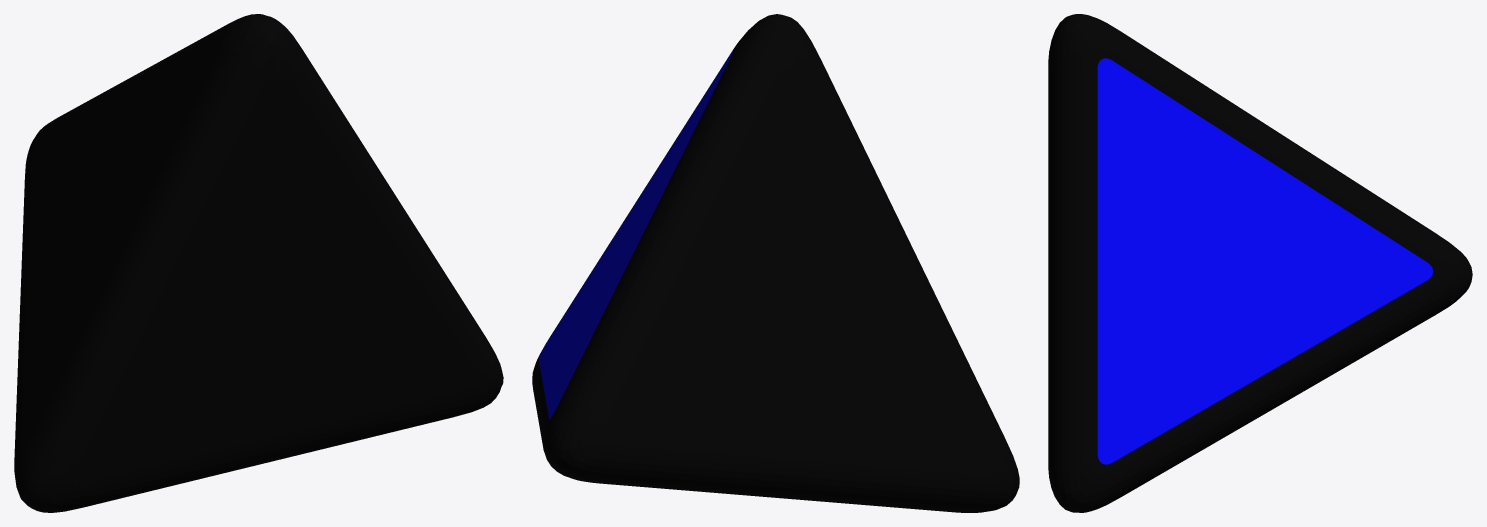
3 views of the same model, side by side, from view 1: azimuth 30°, elevation 25°; view 2: azimuth 150°, elevation 25°; view 3: azimuth 270°, elevation 25° (orthographic). The views are drawn at different scales.
Parts seen in each view (by area): view 1: t_by; view 2: t_by; view 3: t_by.
Part boxes in pixels (x1,y1,x2,y2): t_by: (14,14,503,512); t_by: (532,14,1019,512); t_by: (1048,14,1472,512).
Size of the model in its own units: 135 by 121 by 115.
